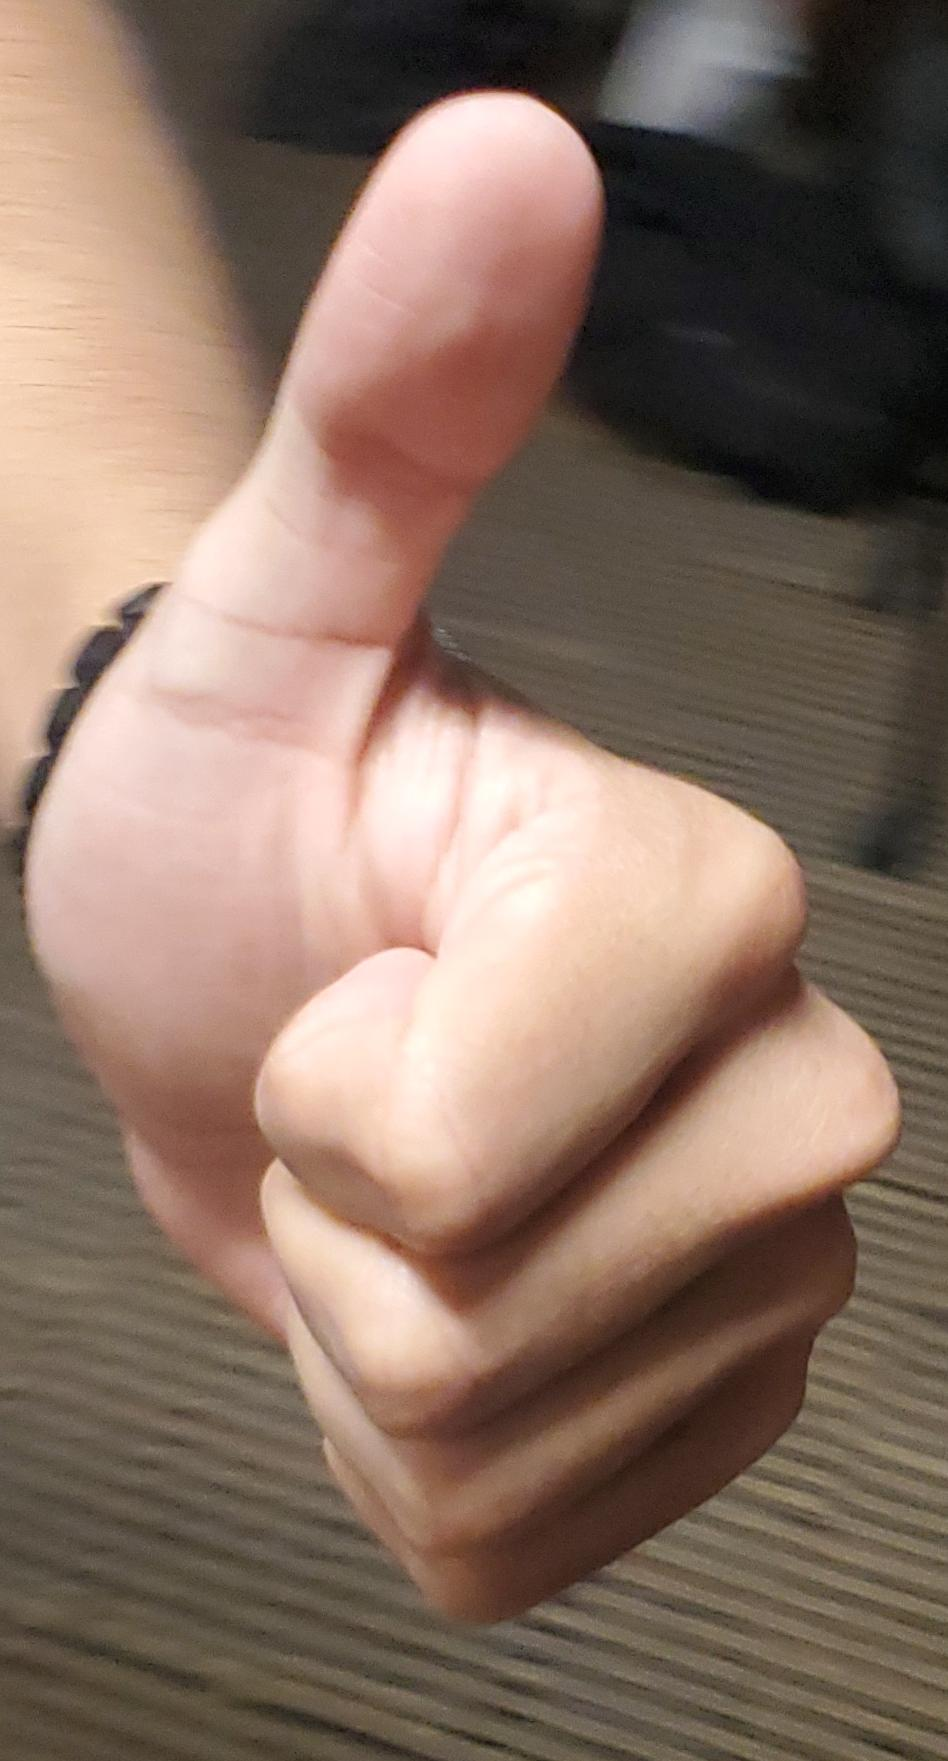up: (0, 1, 948, 1761)
